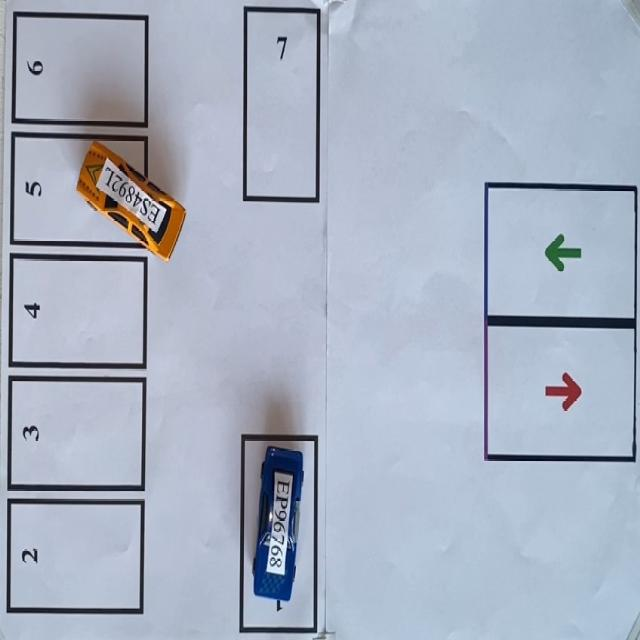car: (76, 141, 185, 260), (253, 446, 303, 610)
